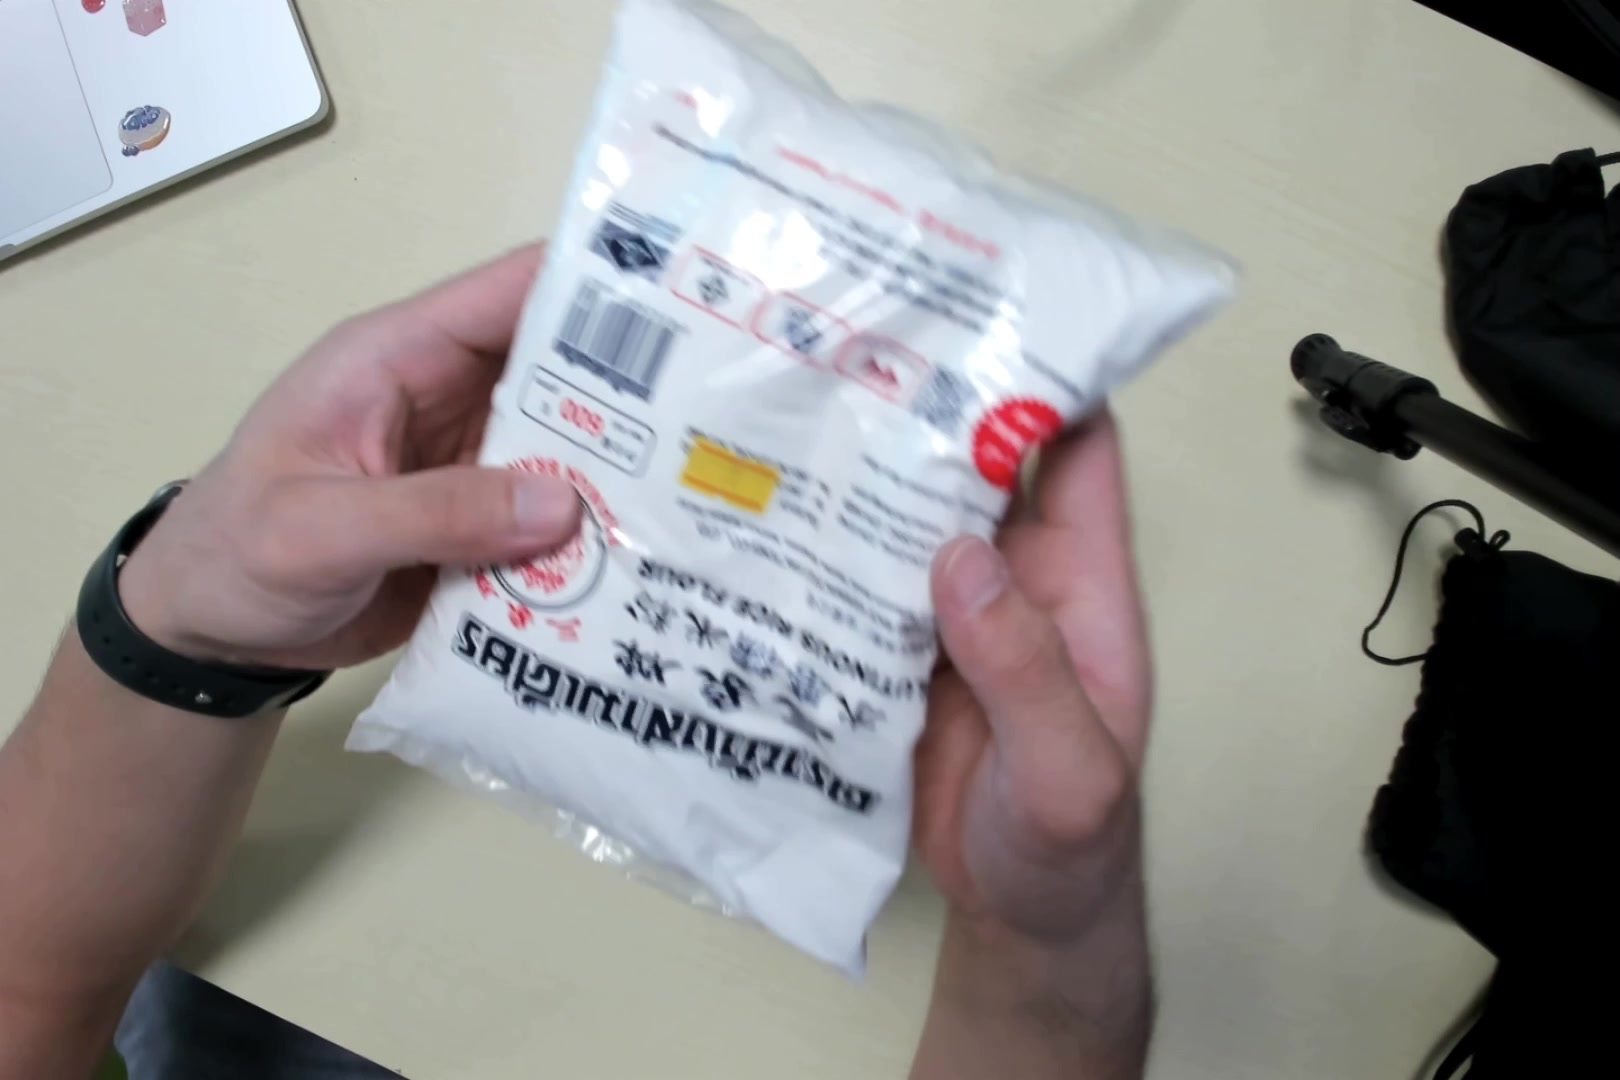OtherBakingNeeds_600-699g_Halal_NonHealthy: (352, 2, 1239, 985)
